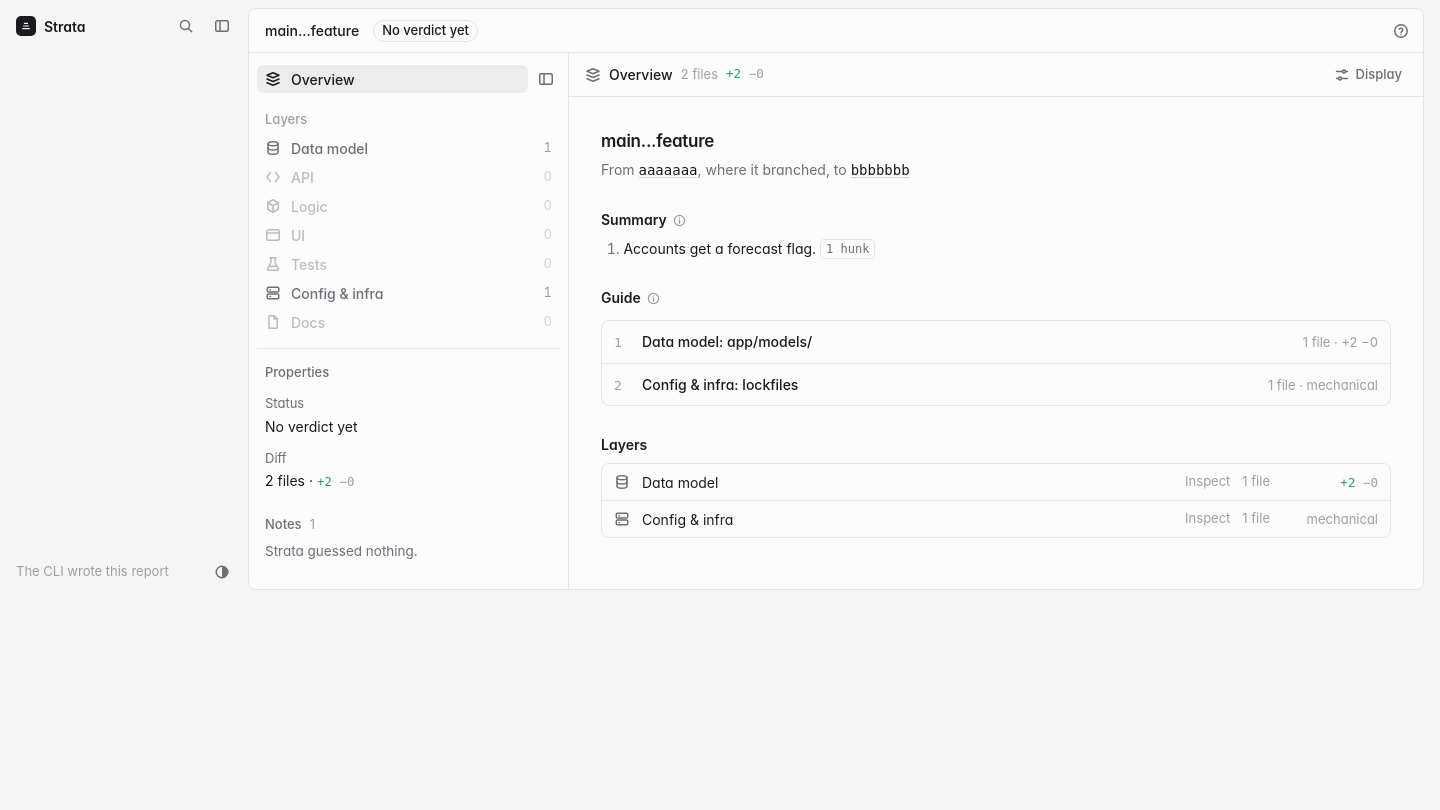
Workspace › keeps secondary options behind Display, with a chip for each one that's on
Press v
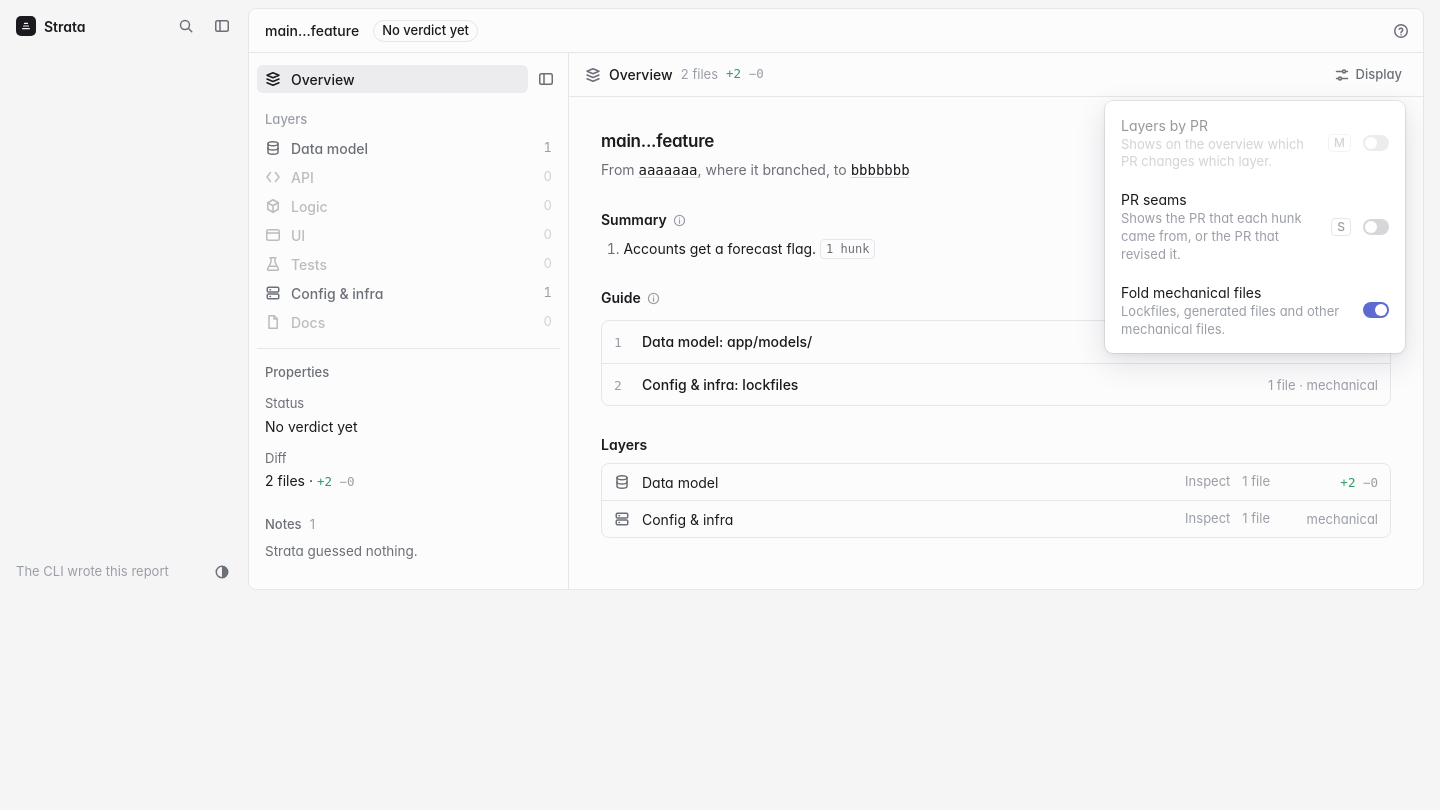
Expected: the switch that starts with "Layers by PR" is disabled, [1111, 106, 1399, 179]
Click the switch that starts with "PR seams": (1255, 227) [1111, 181, 1399, 272]
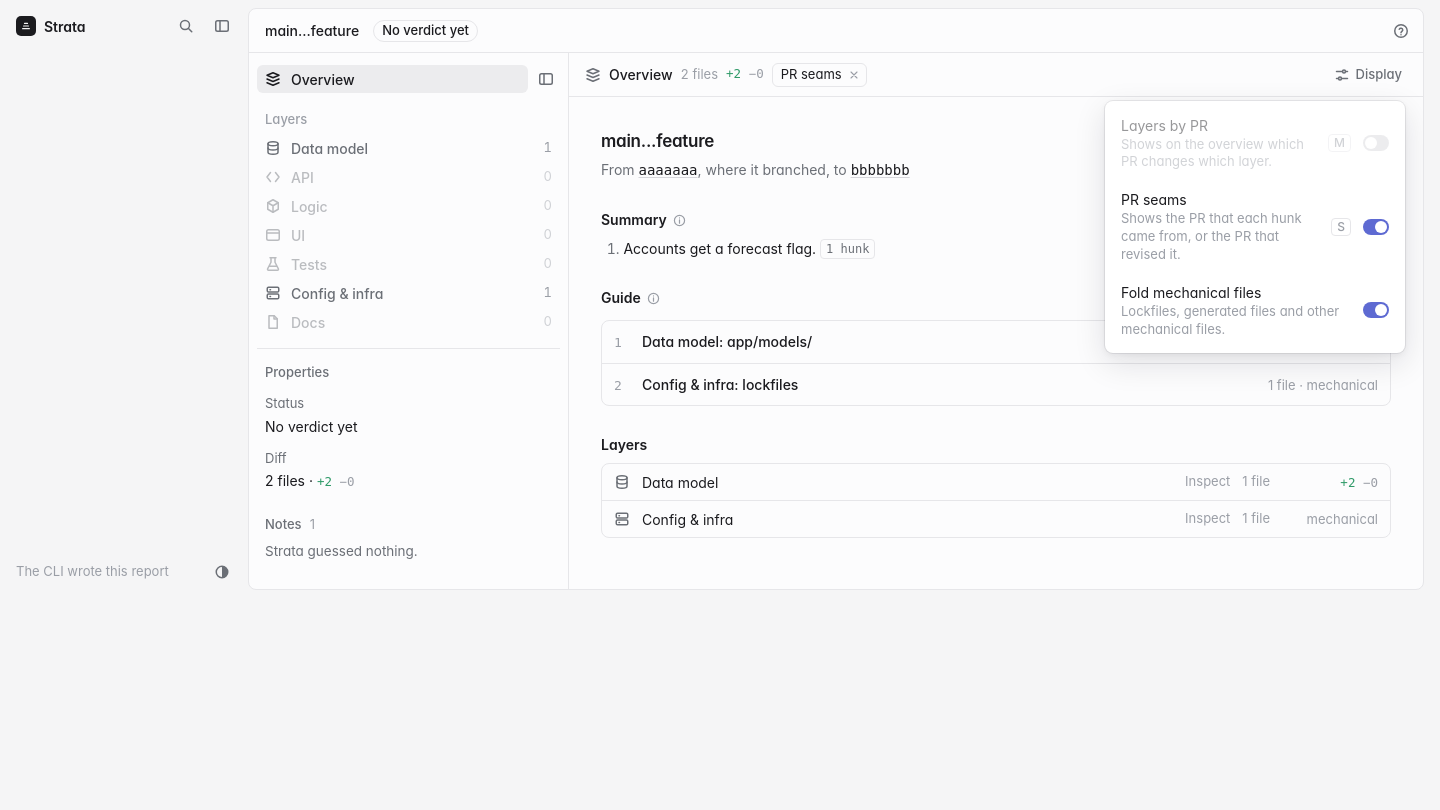
Click the button named "Remove PR seams": (854, 74) [844, 64, 864, 84]
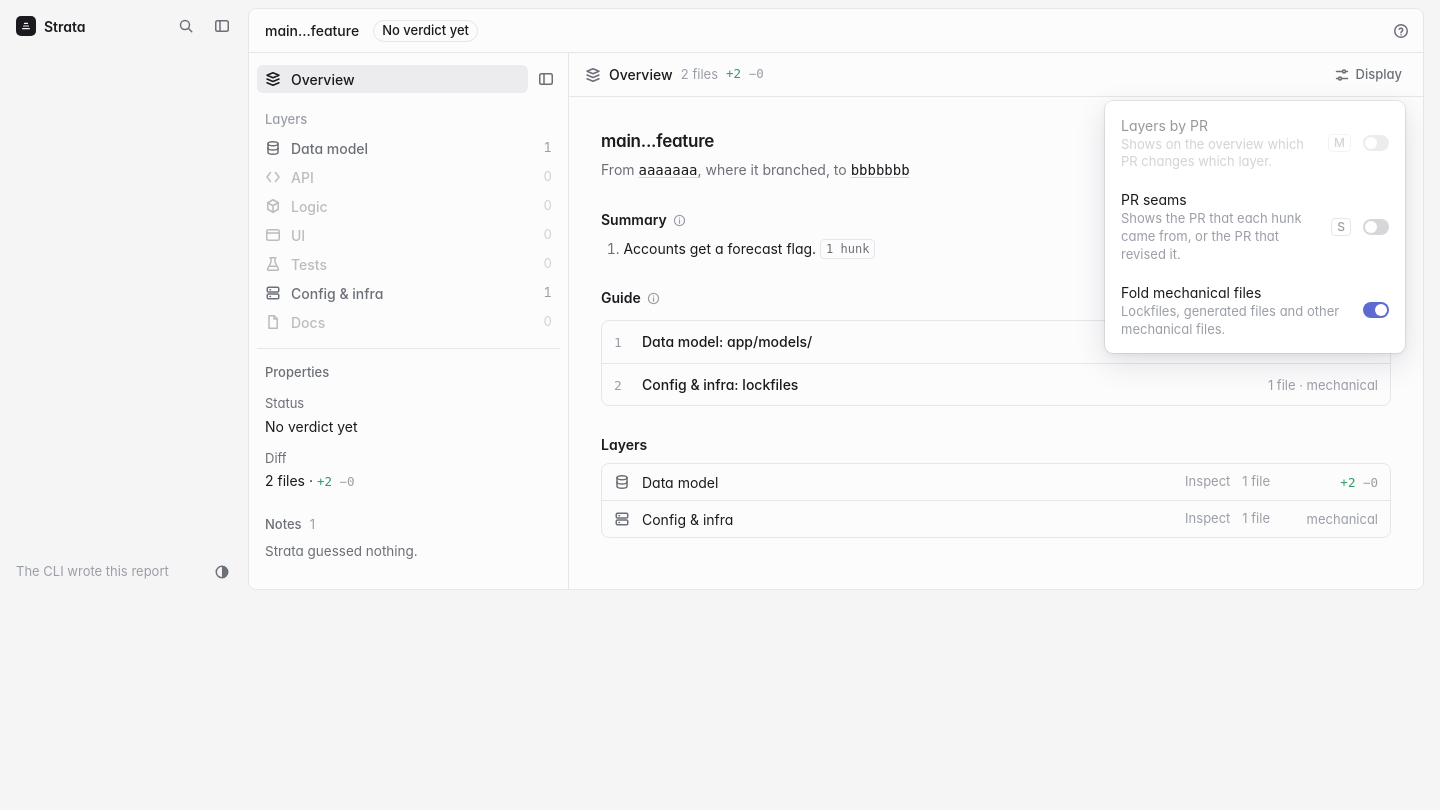
Press Escape
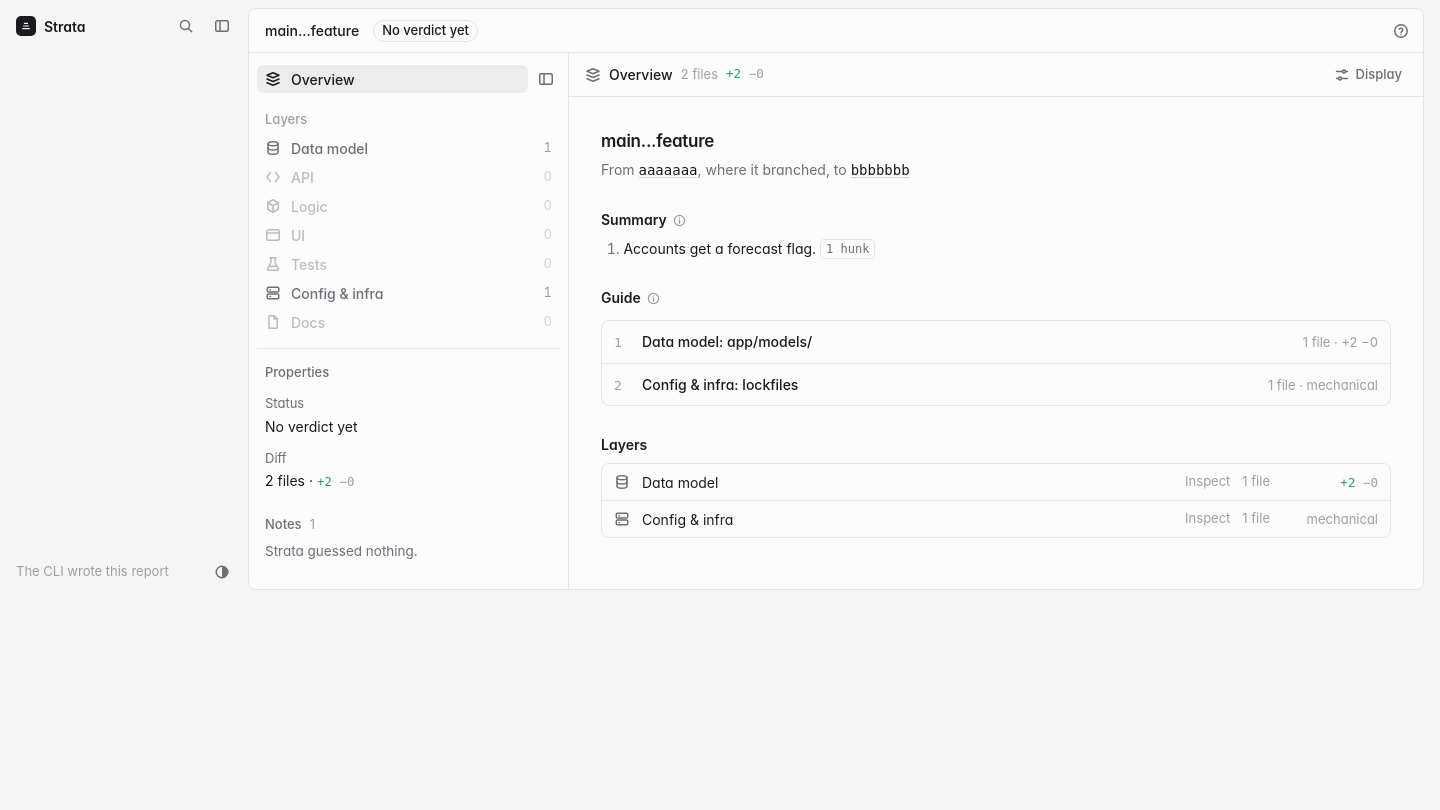
Expected: the dialog named "Display" is gone
